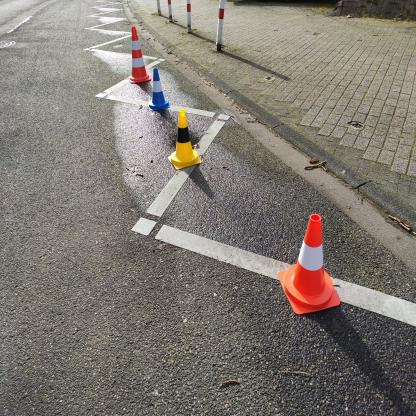Cones_big: (115, 18, 154, 86)
Cones_small_blue: (149, 62, 169, 112)
Cones_small_orange: (262, 177, 348, 328)
Cones_small_yellow: (169, 106, 206, 177)
